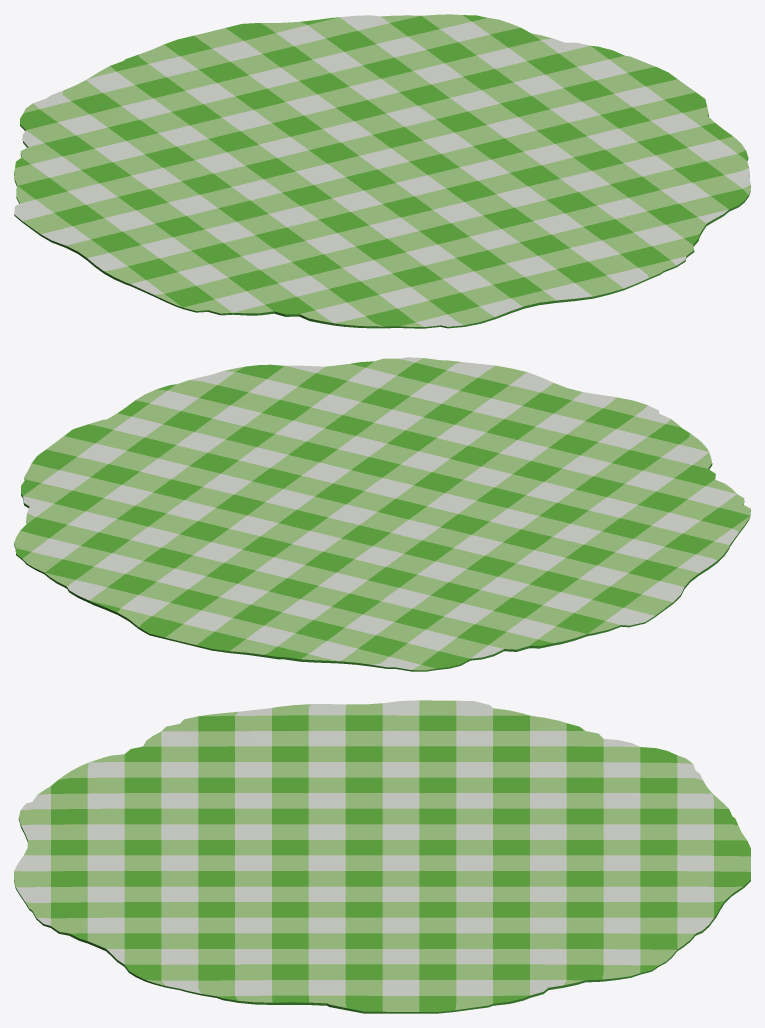
Rendered from cloth_green.glb.
3 renders of one model, top to bottom at view 1: azimuth 30°, elevation 25°; view 2: azimuth 150°, elevation 25°; view 3: azimuth 270°, elevation 25°, orthographic.
Parts seen in each view (by area): view 1: body; view 2: body; view 3: body.
Part boxes in pixels (bbox=[...]): body: bbox=[14, 14, 750, 328]; body: bbox=[14, 357, 750, 671]; body: bbox=[14, 700, 750, 1013].
Size of the model in its own units: 3 by 0.011 by 3.
